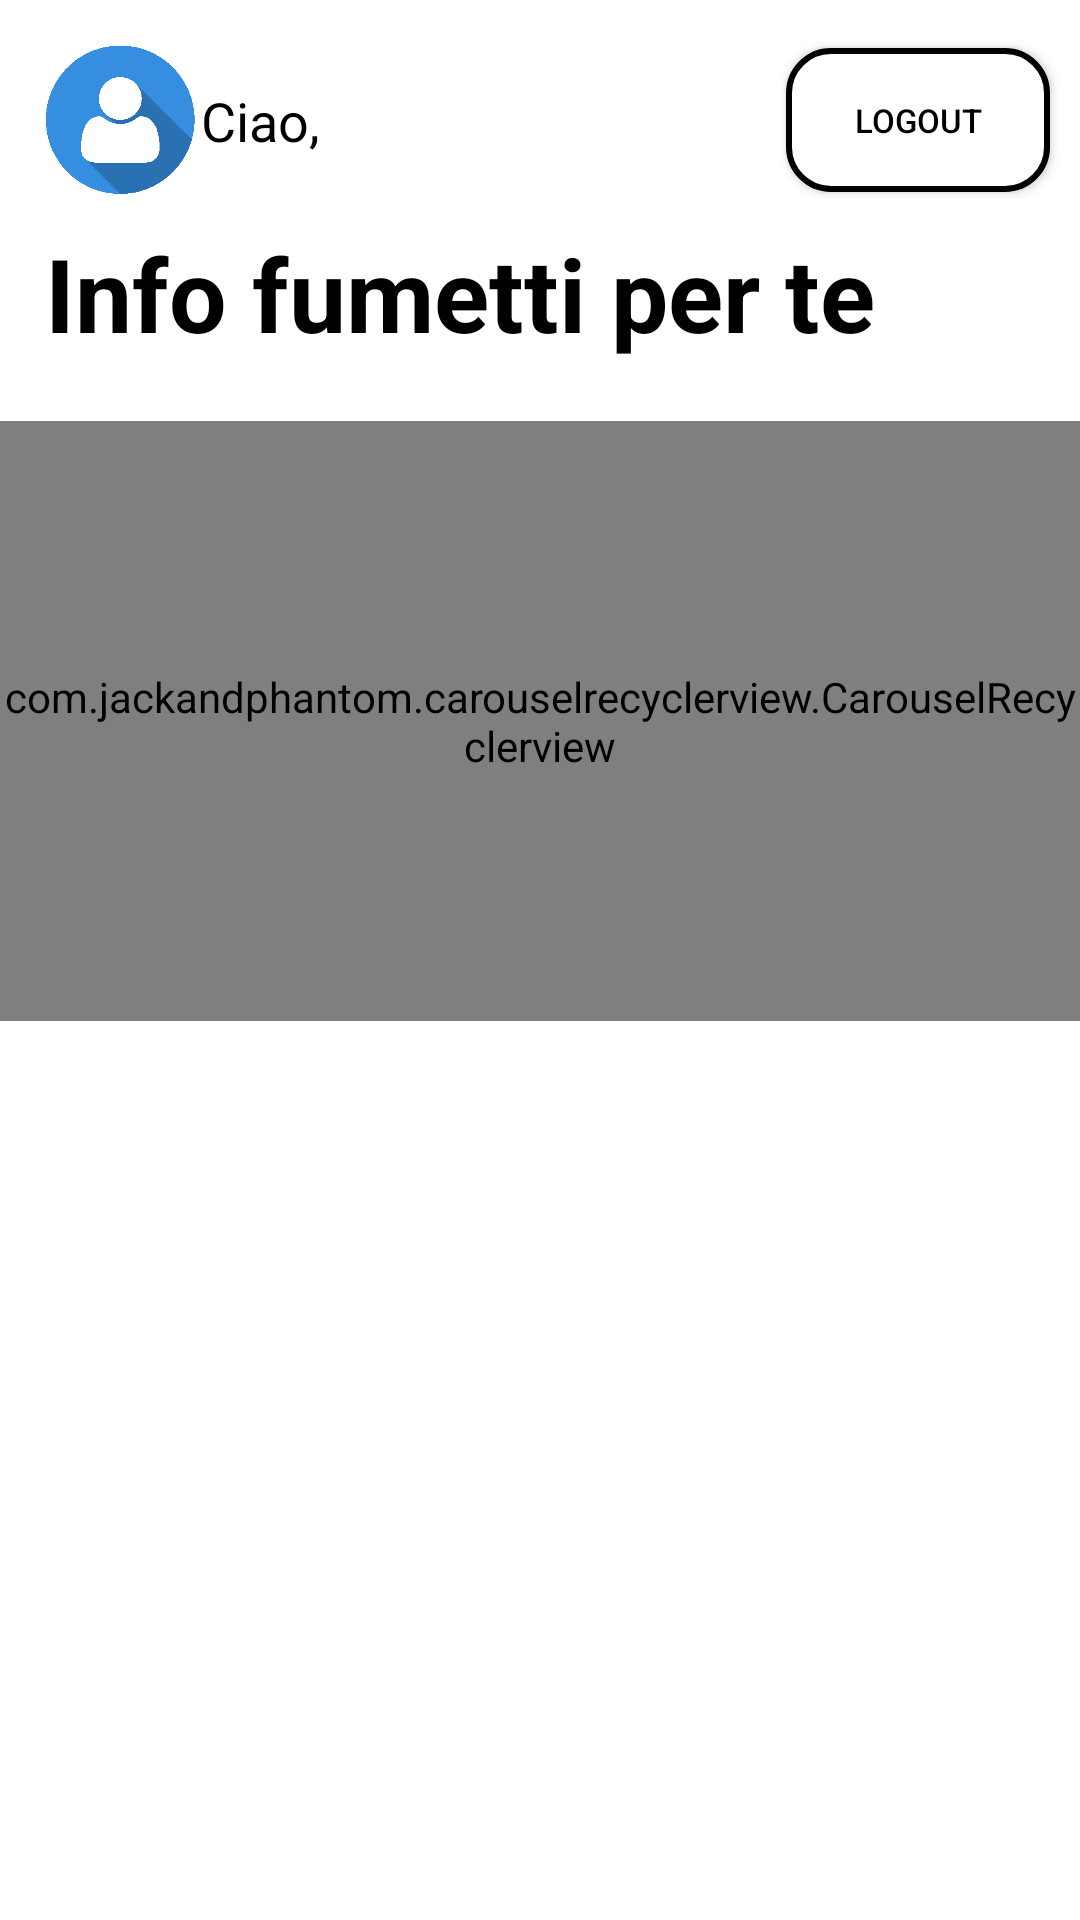

Screen size 1080 x 1920. Icon name, then its box in pixels as {"x1": x1, "y1": y1, "x2": x2, "y2": y2}:
user: {"x1": 46, "y1": 46, "x2": 195, "y2": 194}
